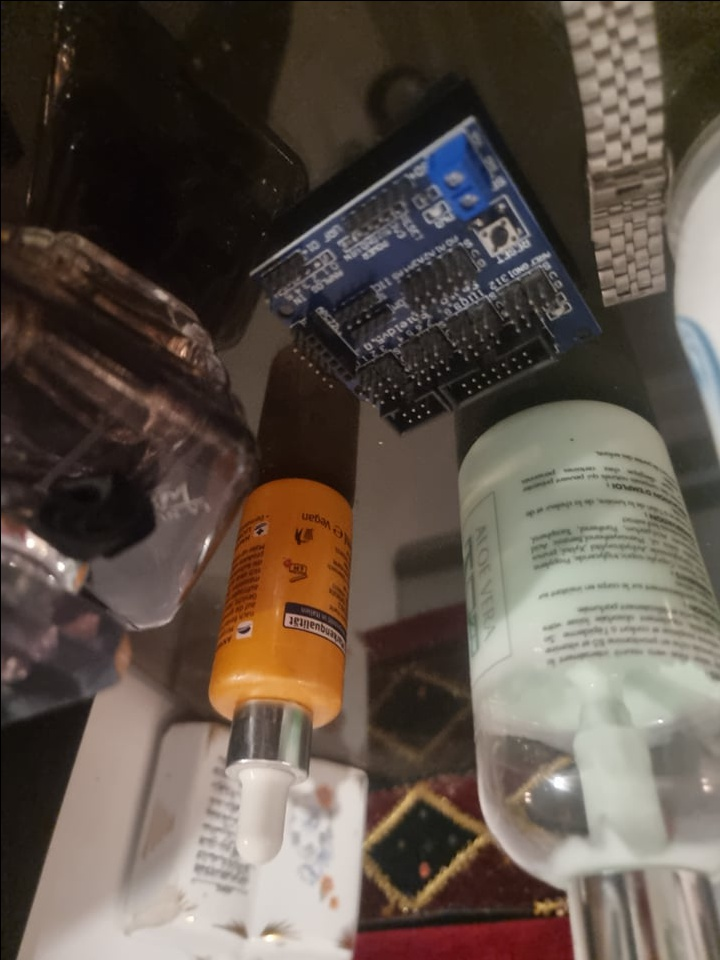5V EXPANSION: (244, 114, 604, 435)
